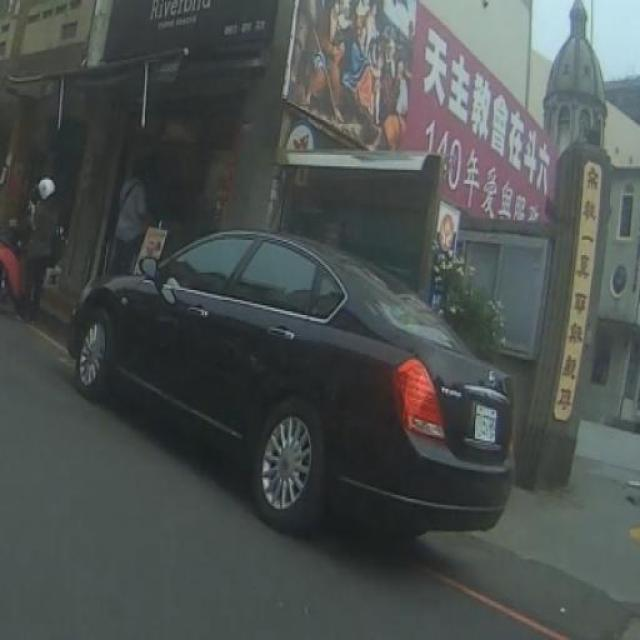Legalparking: (17, 212, 532, 546)
